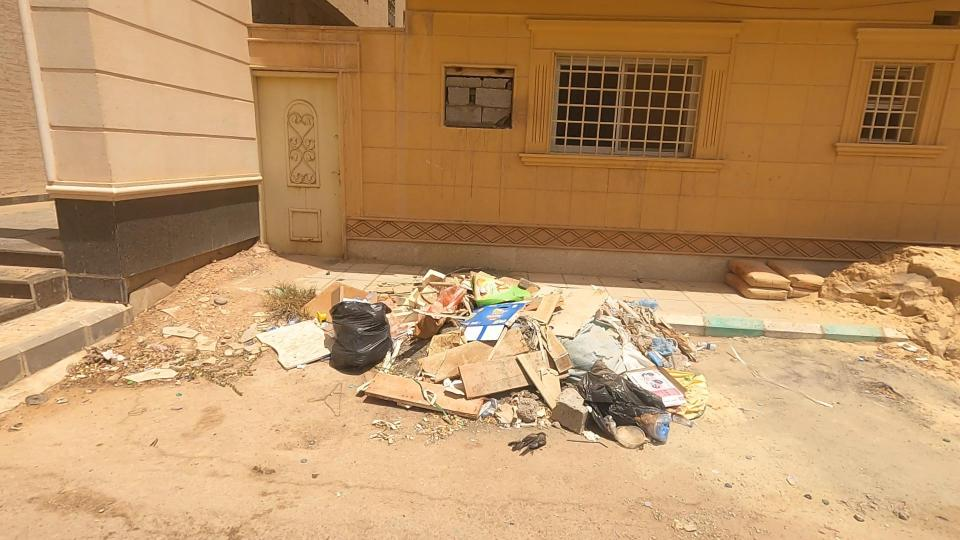GARBAGE: (232, 138, 884, 540), (120, 201, 533, 467)
